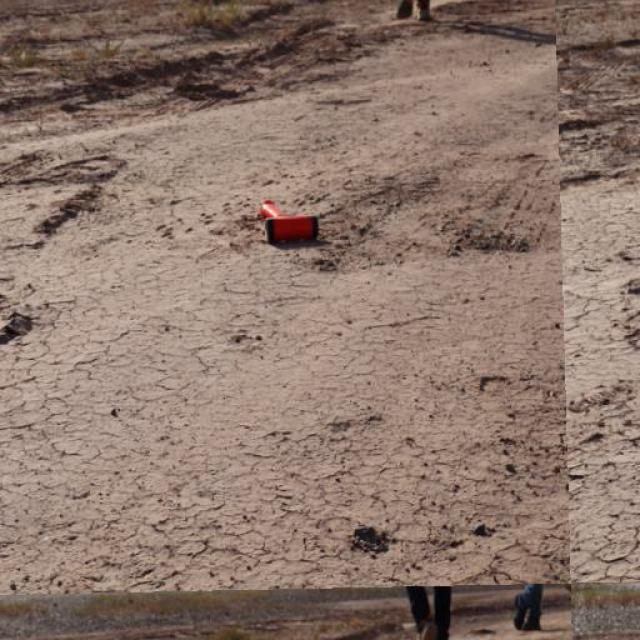mallet: (258, 197, 318, 245)
